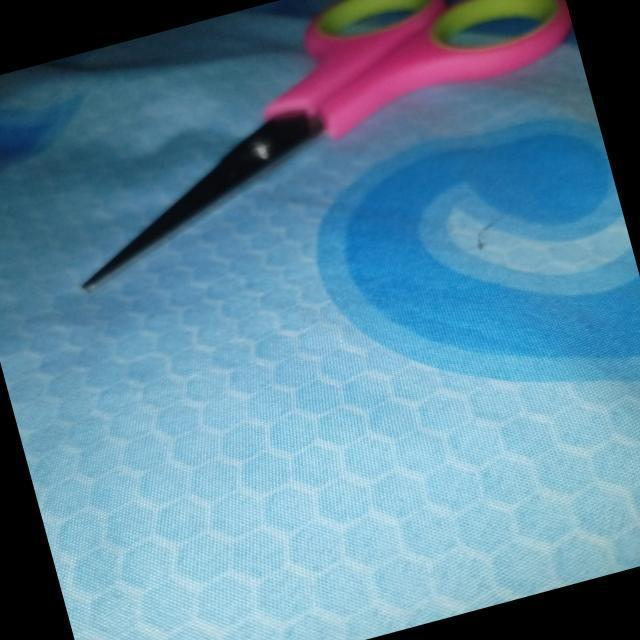scissors: (1, 0, 604, 291)
